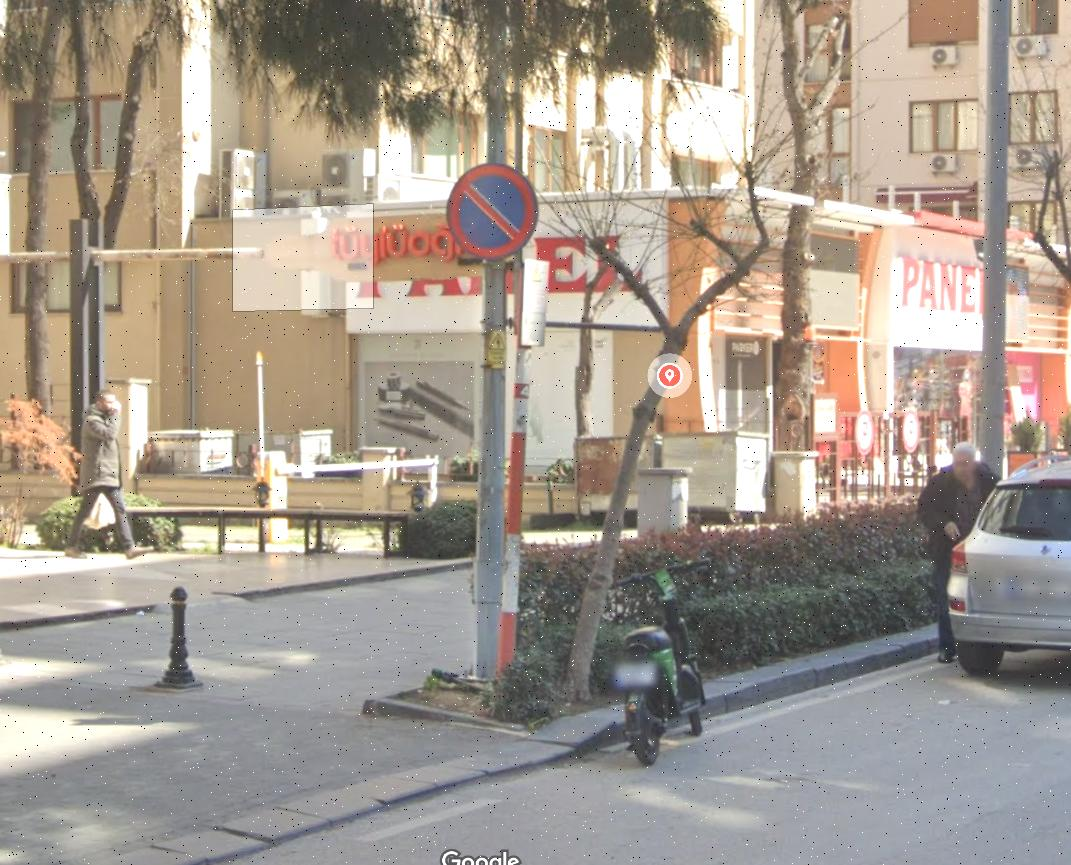nopark: (449, 167, 527, 257)
